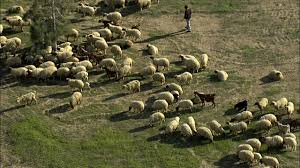sheep: (261, 133, 284, 151), (178, 53, 199, 71), (226, 121, 249, 136), (209, 119, 226, 138), (122, 24, 142, 40), (197, 125, 215, 142), (6, 66, 27, 79), (271, 96, 287, 113), (65, 76, 83, 91), (122, 78, 140, 93), (166, 117, 181, 134), (239, 149, 256, 164), (230, 111, 253, 122), (98, 57, 117, 70), (259, 155, 279, 167), (78, 2, 94, 17), (104, 21, 121, 35), (180, 121, 193, 139), (150, 98, 168, 111), (51, 68, 70, 80), (102, 11, 121, 23), (93, 38, 107, 54), (149, 112, 166, 125), (72, 58, 92, 69), (153, 91, 173, 102), (52, 49, 71, 60), (69, 92, 82, 108), (128, 100, 144, 113), (267, 69, 284, 81), (284, 100, 295, 118), (109, 44, 123, 58), (174, 71, 188, 85), (138, 65, 155, 76), (214, 67, 227, 81), (199, 51, 209, 69), (254, 98, 269, 110), (247, 137, 260, 150), (147, 42, 159, 56), (28, 67, 41, 79), (152, 72, 164, 84), (87, 32, 93, 39)
